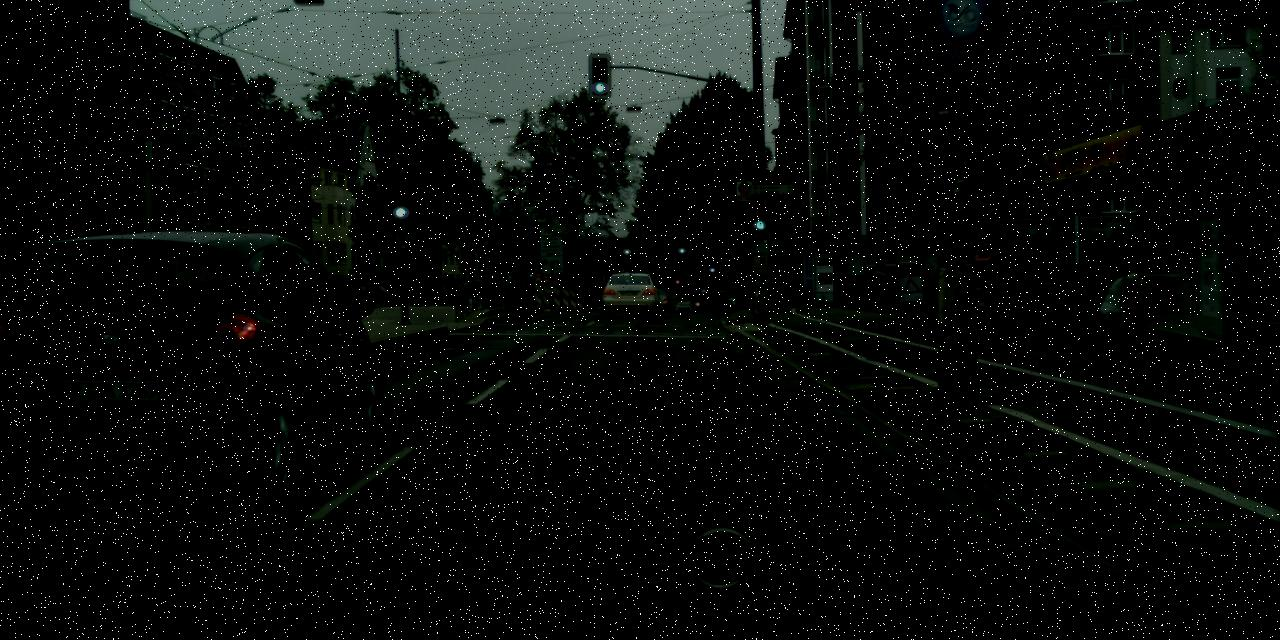ped: (444, 272, 457, 305), (501, 274, 513, 306), (793, 281, 805, 308)
